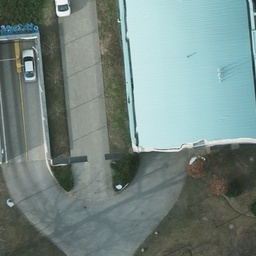car: (22, 48, 35, 81), (55, 1, 72, 15)
